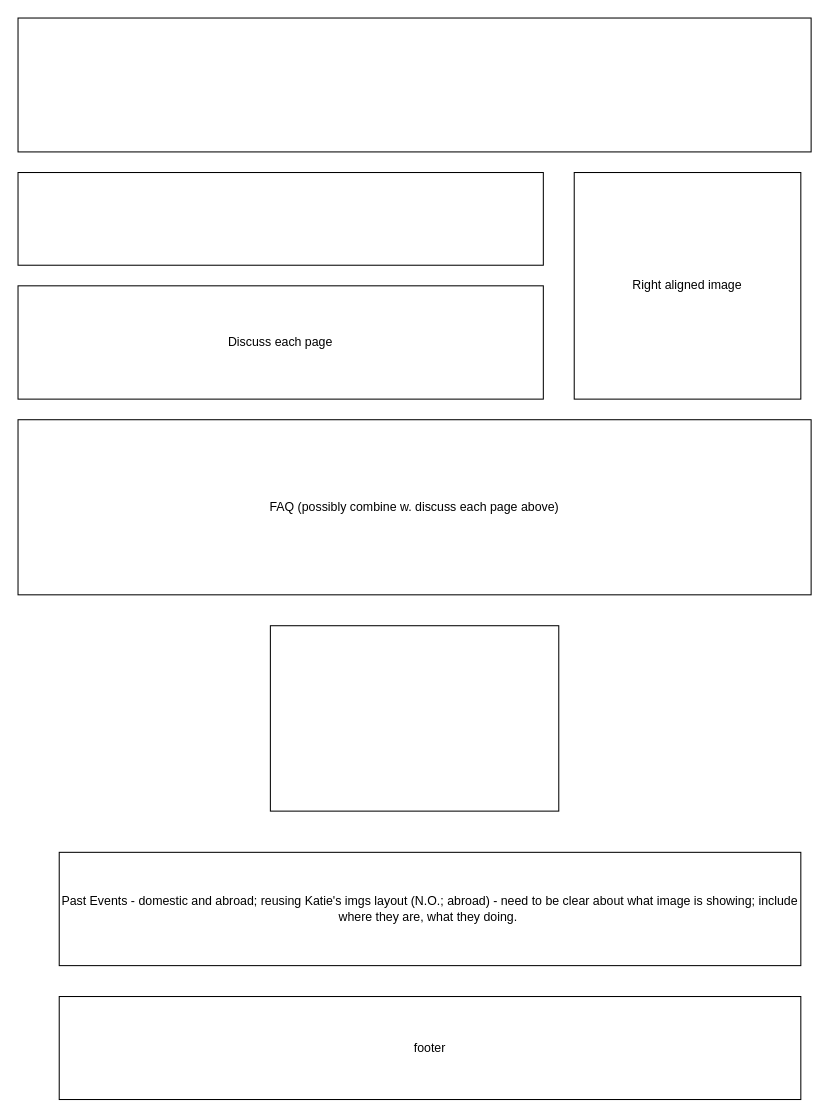
The diagram is 829 pixels wide and 1118 high, and some of its shapes have lost their labels. The box of each missing label's shape, as (x1, y1, x2, y2) in pixels:
centered img: (269, 625, 559, 811)
Mission Statement: (17, 171, 543, 265)
Top Nav: (17, 17, 811, 152)
